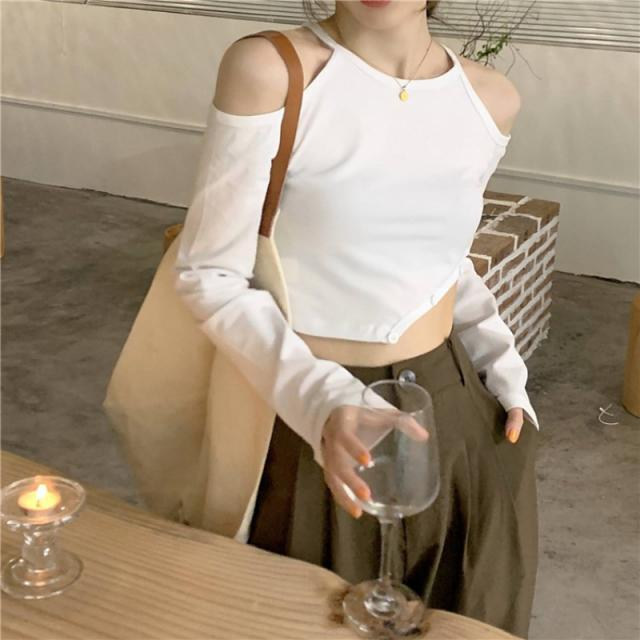Shirt: (187, 19, 542, 478)
